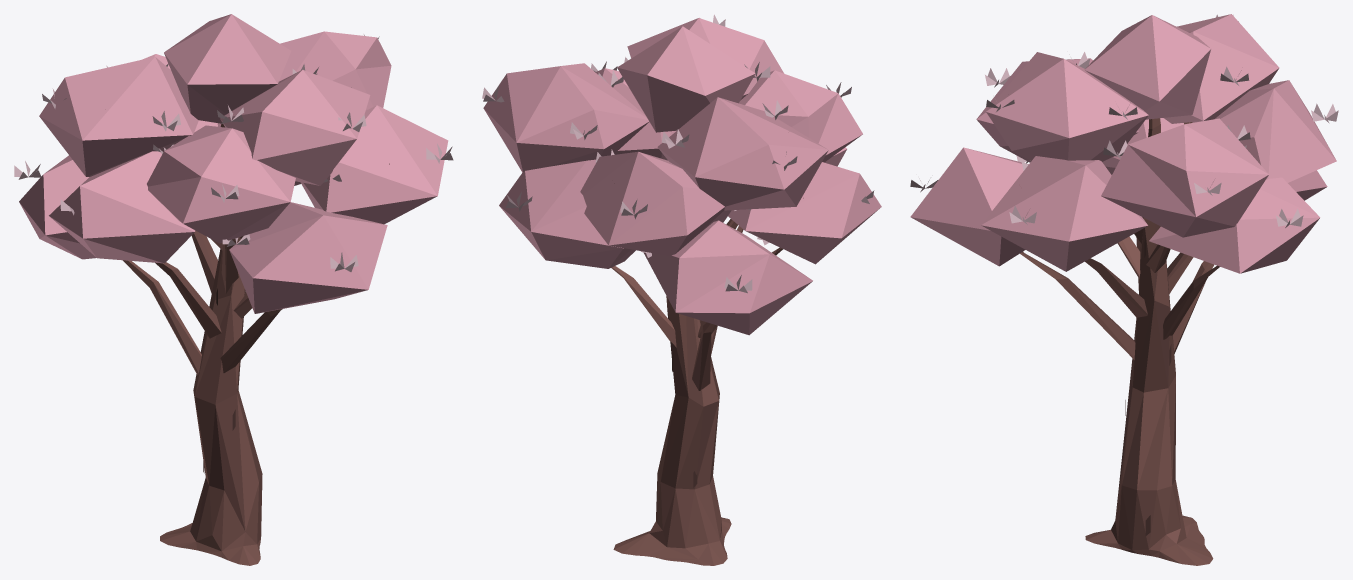
File: cherry_wild_spring.glb
3 views of the same model, side by side, from view 1: azimuth 30°, elevation 25°; view 2: azimuth 150°, elevation 25°; view 3: azimuth 270°, elevation 25° (orthographic). The views are drawn at different scales.
Parts seen in each view (by area): view 1: leaves, branches; view 2: leaves, branches; view 3: leaves, branches.
Boxes of the visible parts, box(x1,y1,x2,y2) form: leaves: box(14, 14, 453, 313); branches: box(123, 124, 389, 565); leaves: box(482, 14, 881, 335); branches: box(611, 183, 803, 565); leaves: box(910, 14, 1338, 273); branches: box(1020, 118, 1219, 565).
Bounding box in the file's own units: 3.33 × 4.6 × 3.38.
